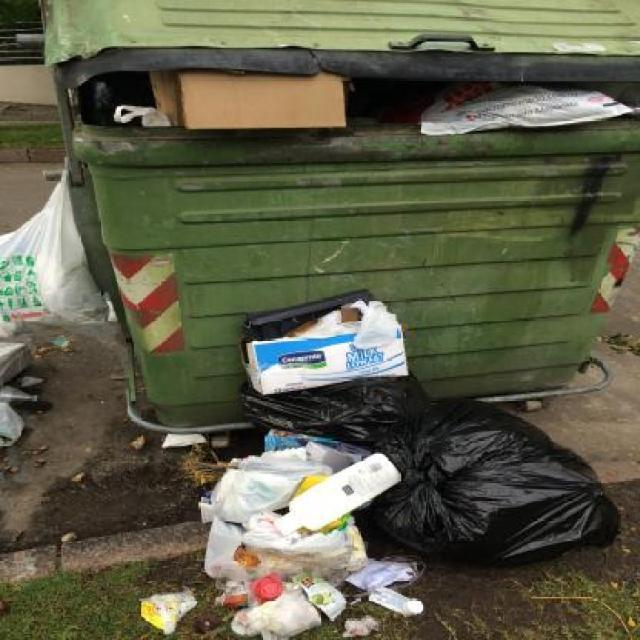garbage: (225, 303, 604, 559), (176, 431, 415, 640)
